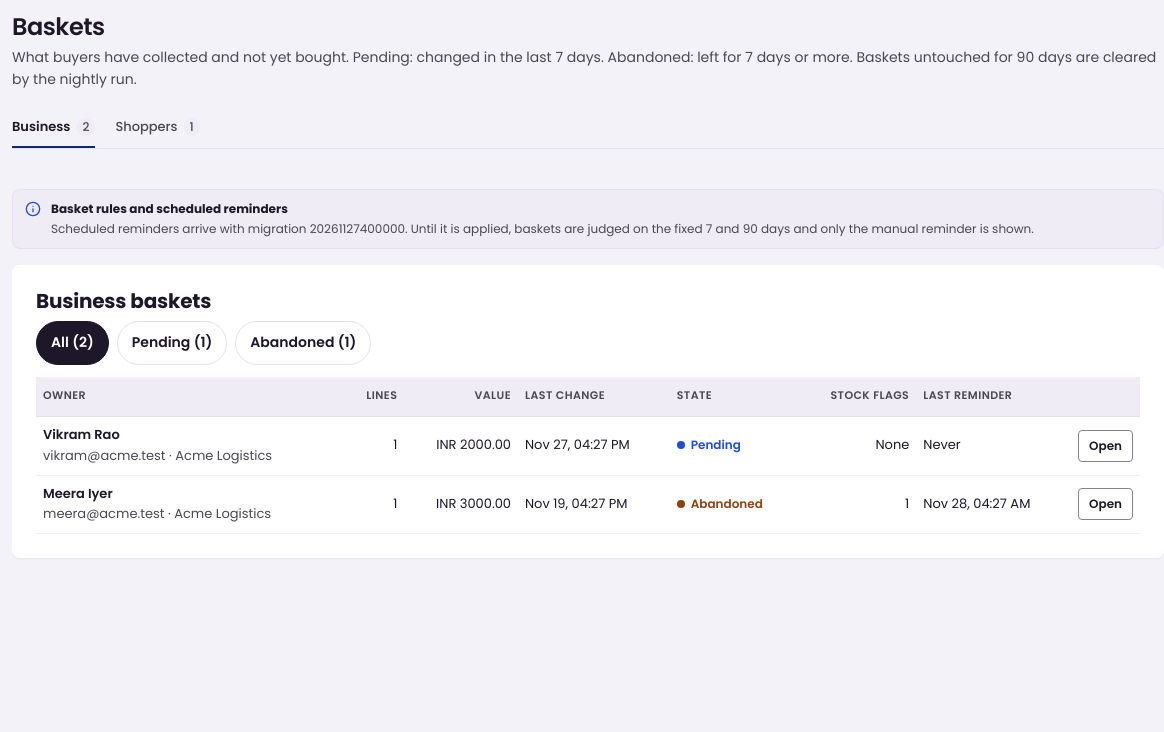
Test: OperatorBaskets › opens a basket to its lines and notes, and says why a reminder was refused
Click the button named "Open Meera Iyer".
click(1106, 504)  # box 1078,488 -> 1133,520
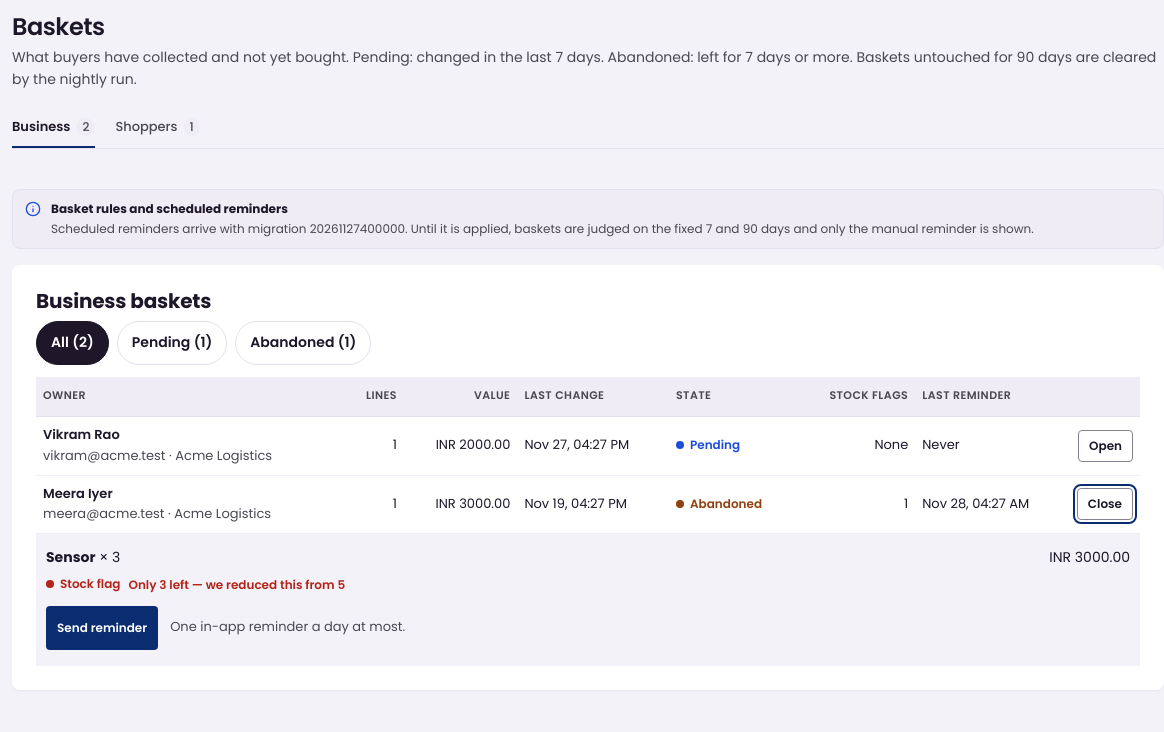
Expected: the text "Only 3 left — we reduced this from 5" is shown, 128,576 -> 345,593
Click the button "Send reminder".
click(102, 628)  # box 46,606 -> 158,650
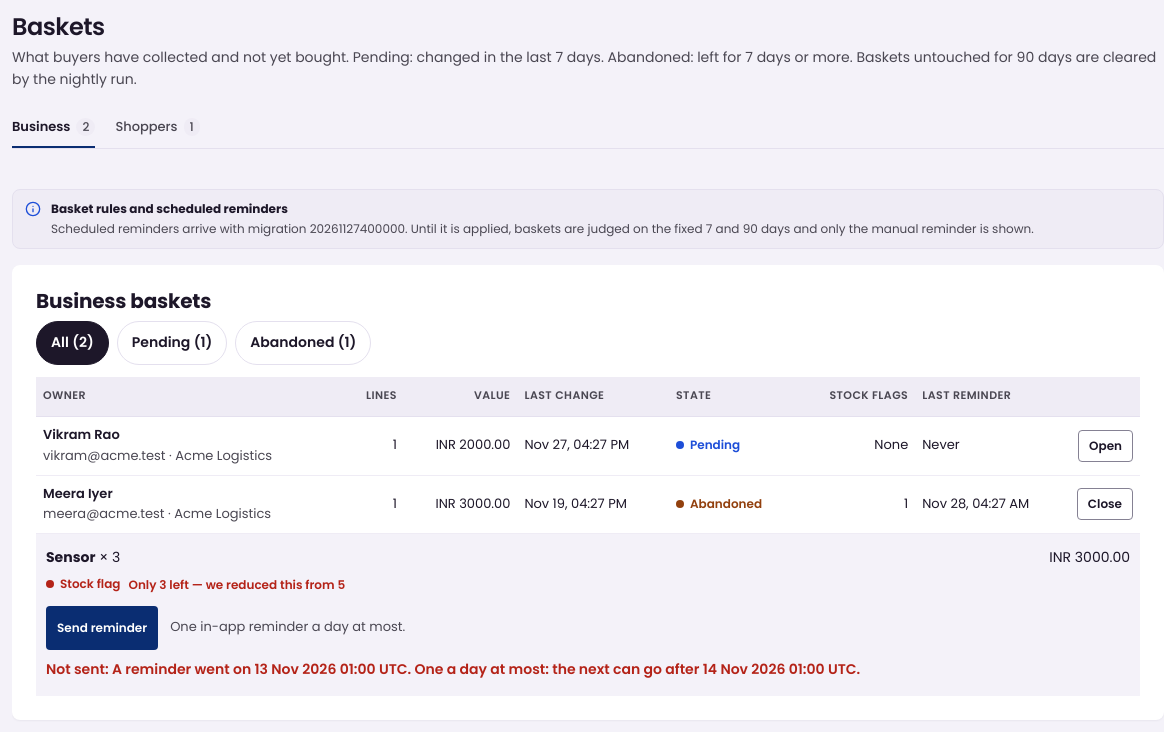
Expected: the message shows "Not sent: A reminder went on 13 Nov 2026", 46,659 -> 860,679
